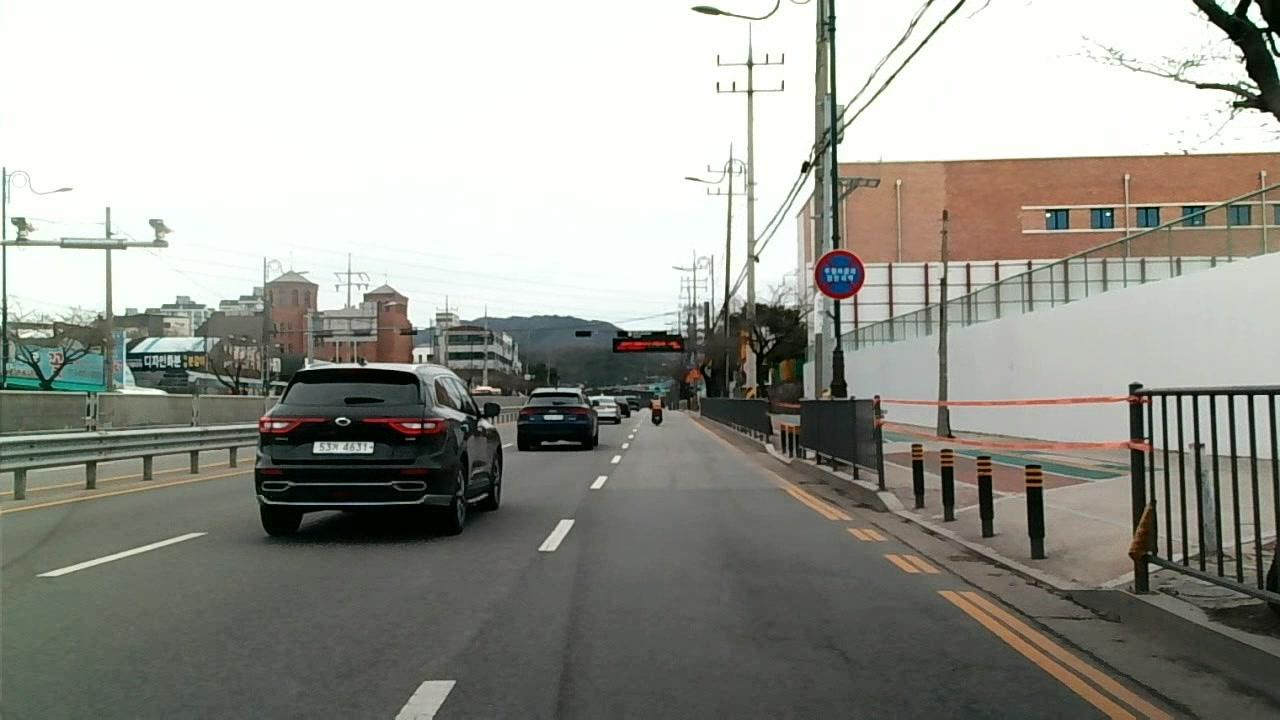vcrack: (931, 554, 1049, 627), (1071, 641, 1177, 712)
